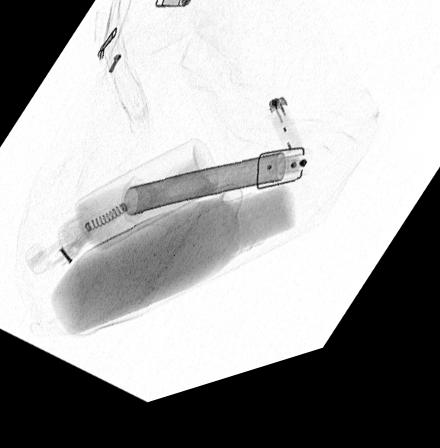Lighter: (266, 113, 301, 170)
